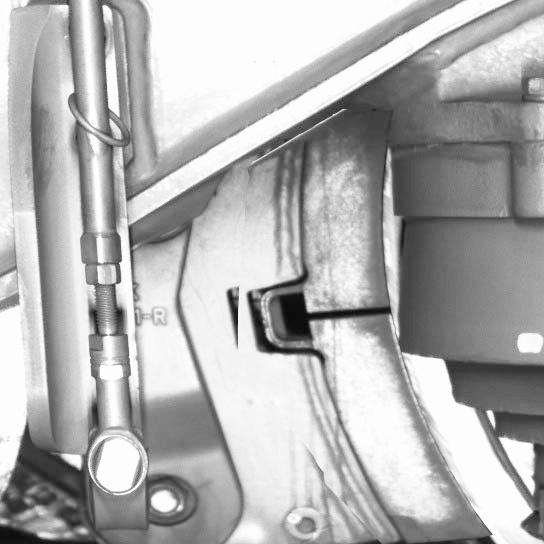ClosedKnifeSwitch: (280, 142, 513, 543)
